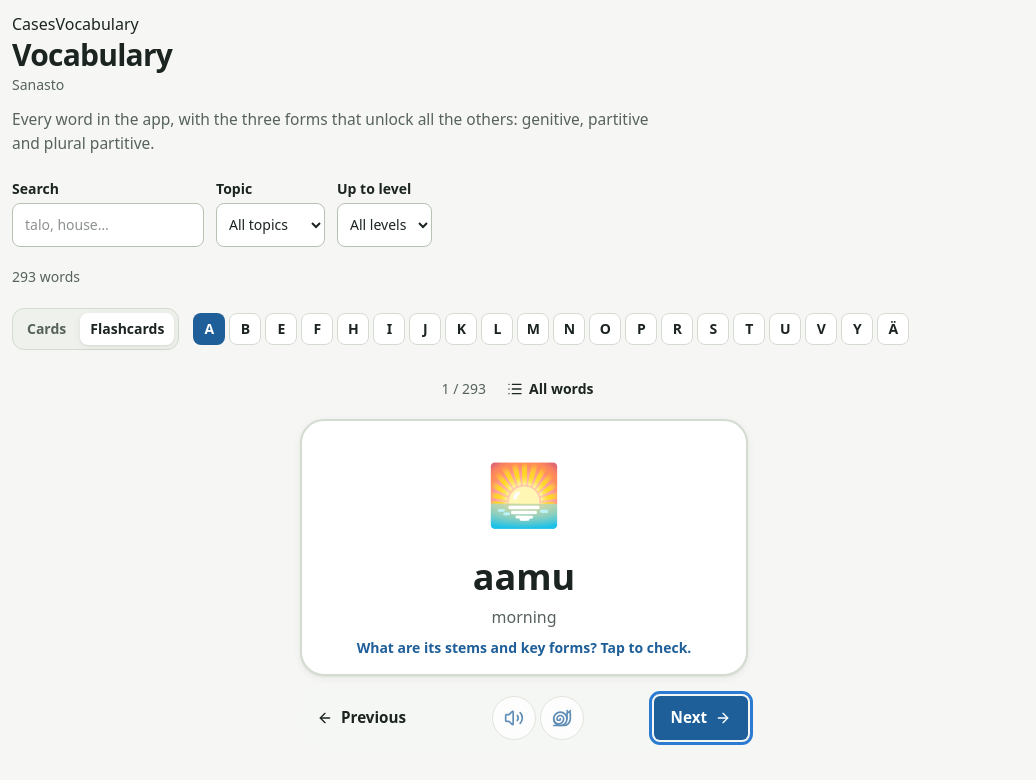
Test: Vocabulary flashcards: edges › focus stays on Next while moving, for keyboard users
Click the button "Next" at x=701, y=718, box [654,696,748,740]
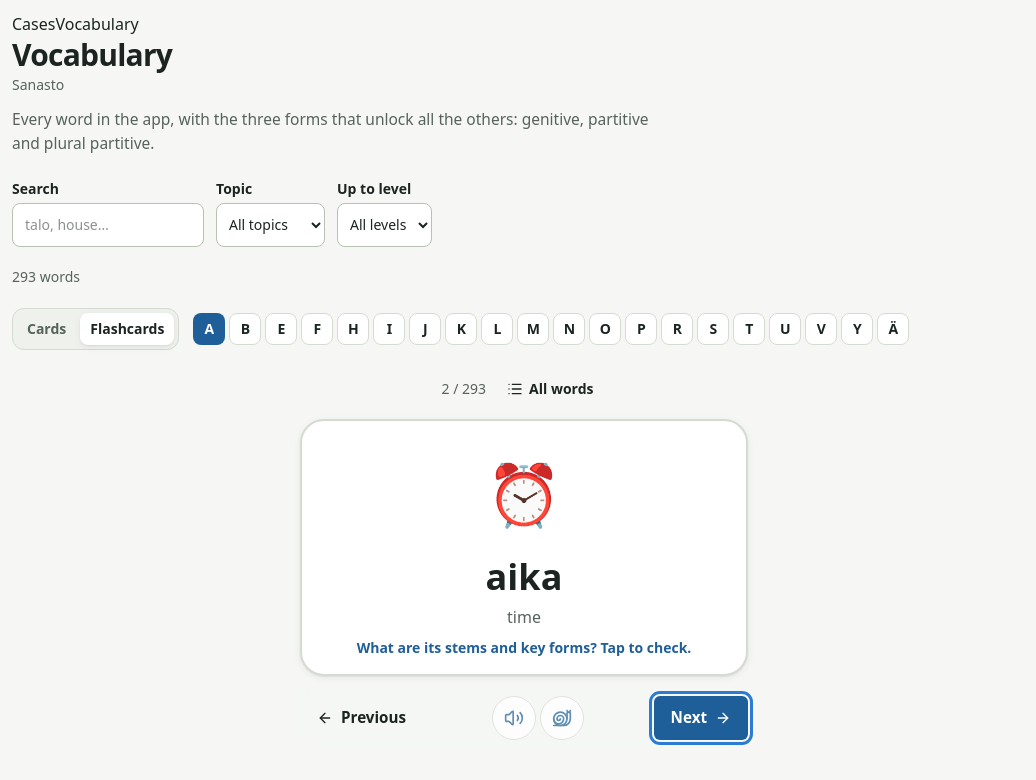
Click the button "Next" at x=701, y=718, box [654,696,748,740]
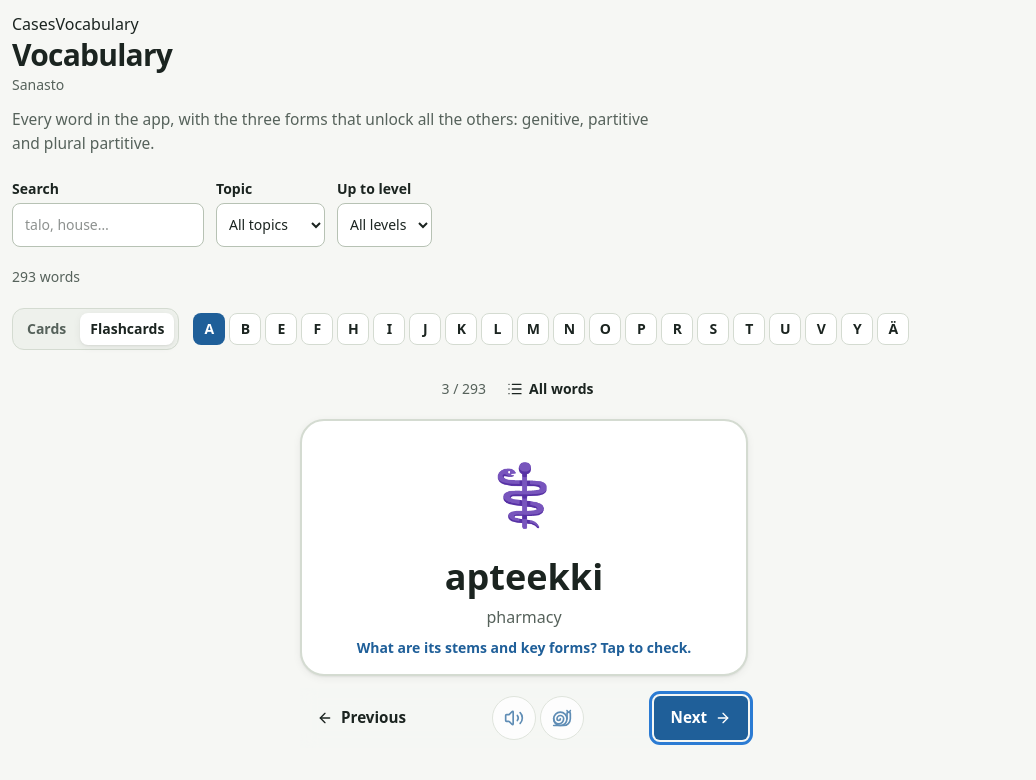
expect the text "3 / 293" is shown: met, box [442,379,486,399]
